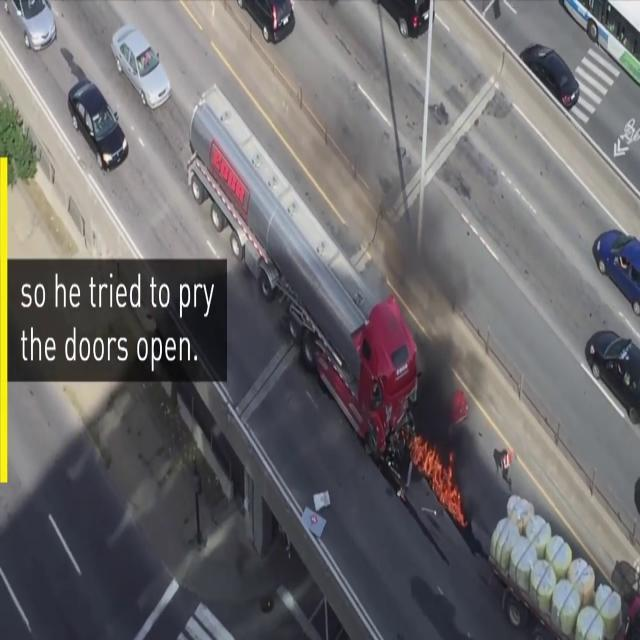Fire: (411, 426, 464, 522)
Smoke: (384, 164, 476, 432)
